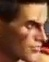kevin: (4, 1, 47, 61)
